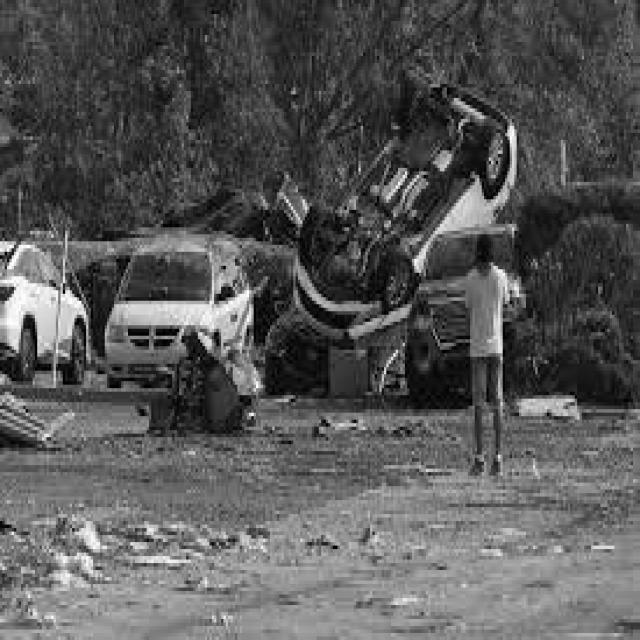accident: (282, 65, 522, 345)
vehicle: (97, 235, 263, 394), (0, 215, 99, 401)
